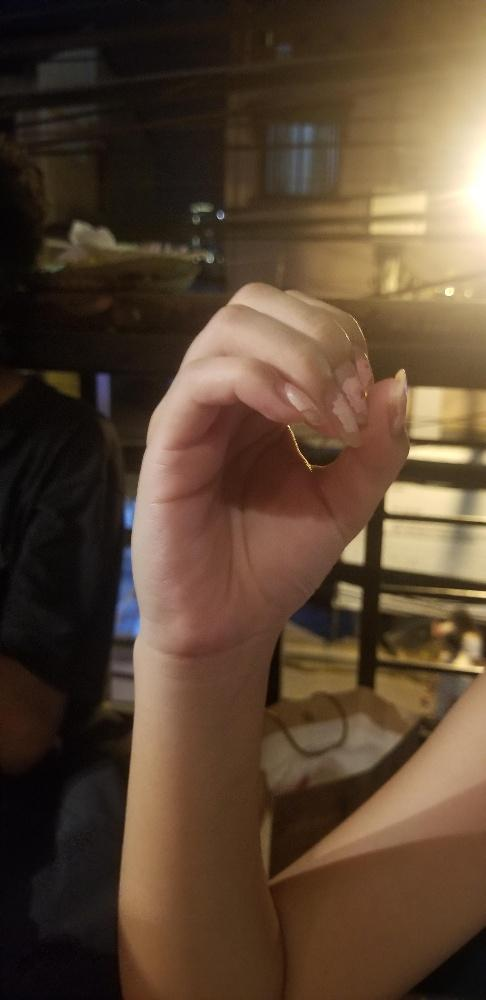o: (125, 275, 414, 660)
